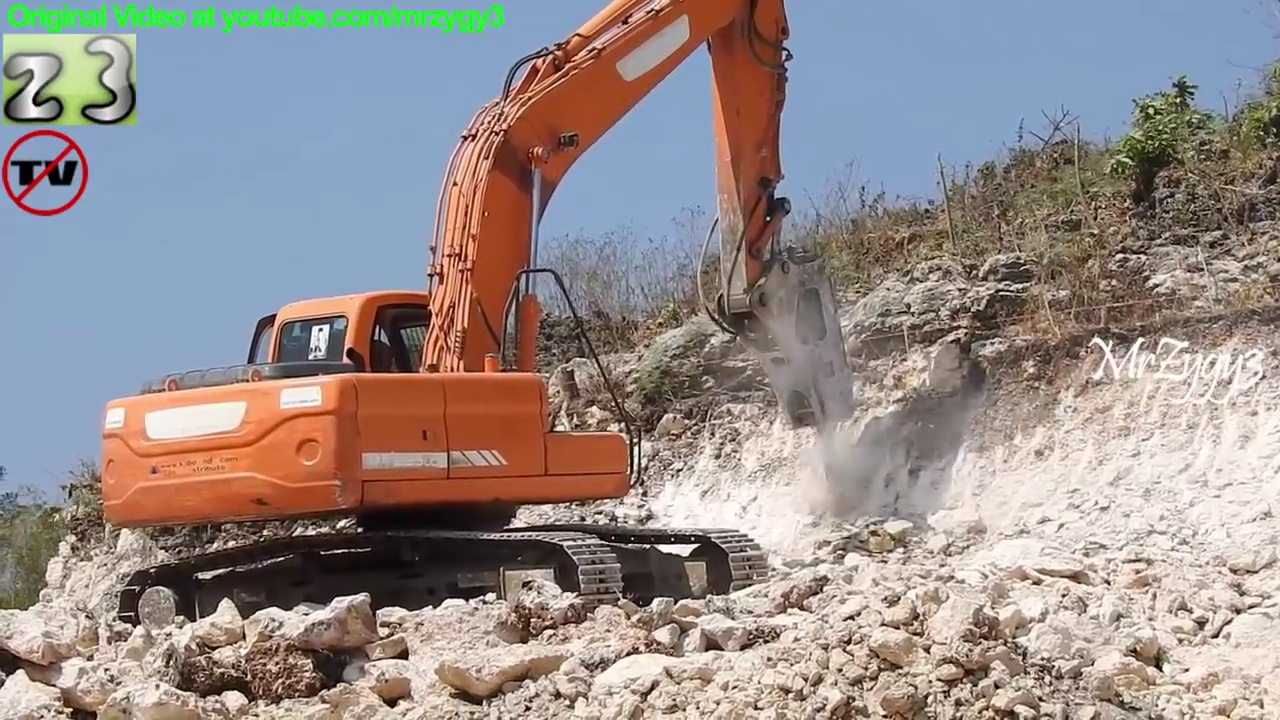excavator: (91, 1, 864, 641)
